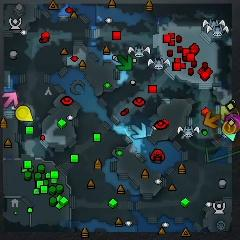Other: (223, 121, 236, 134)
p2: (224, 132, 236, 142)
p3: (226, 113, 240, 127)
p4: (16, 106, 33, 122)
x1: (3, 91, 19, 108)
x2: (220, 105, 235, 118)
x3: (131, 123, 147, 139)
x4: (117, 56, 133, 71)
x5: (204, 111, 220, 129)
